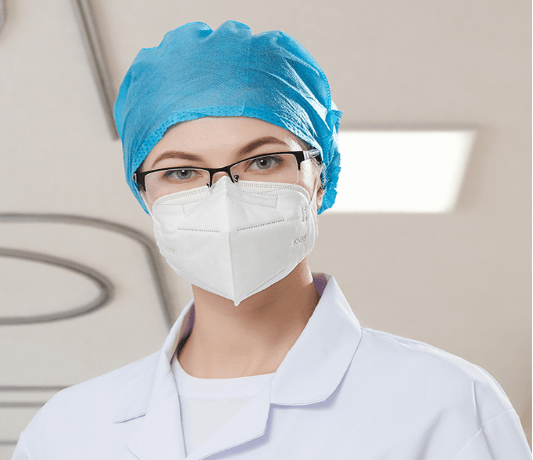with_mask_and_cap: (117, 25, 335, 303)
